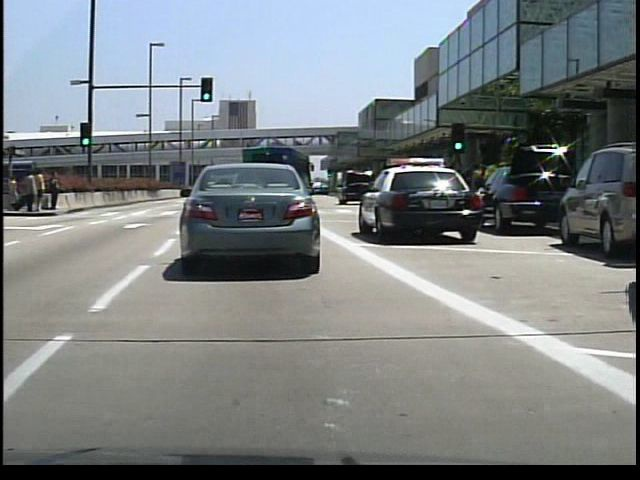person: (21, 169, 38, 214), (45, 169, 60, 212), (34, 166, 45, 214)
